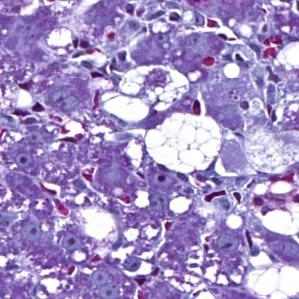ballooning: (96, 61, 192, 130), (142, 110, 224, 176)
